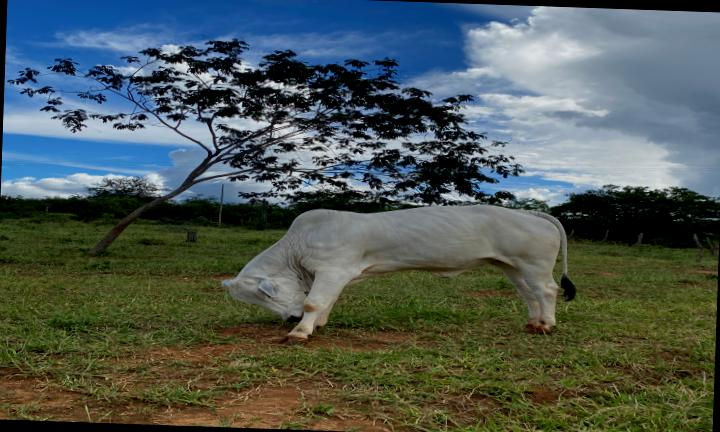Brahman: (223, 205, 575, 344)
